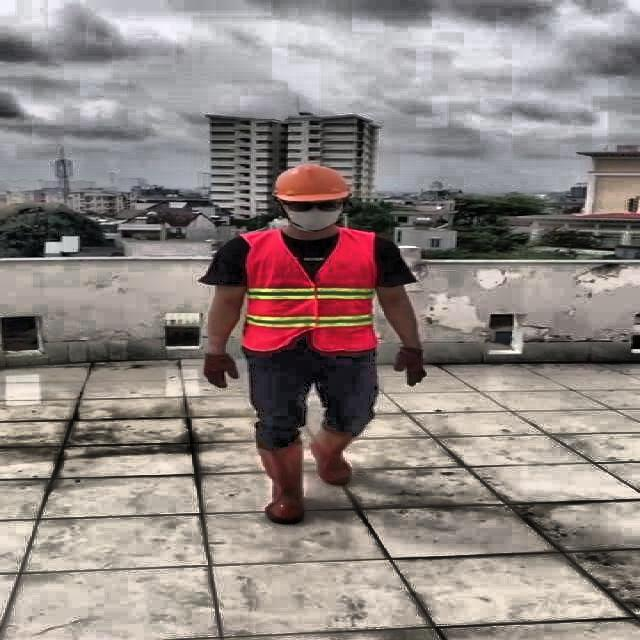safety_helmet: (258, 162, 358, 205)
safety_jacket: (236, 230, 377, 353)
